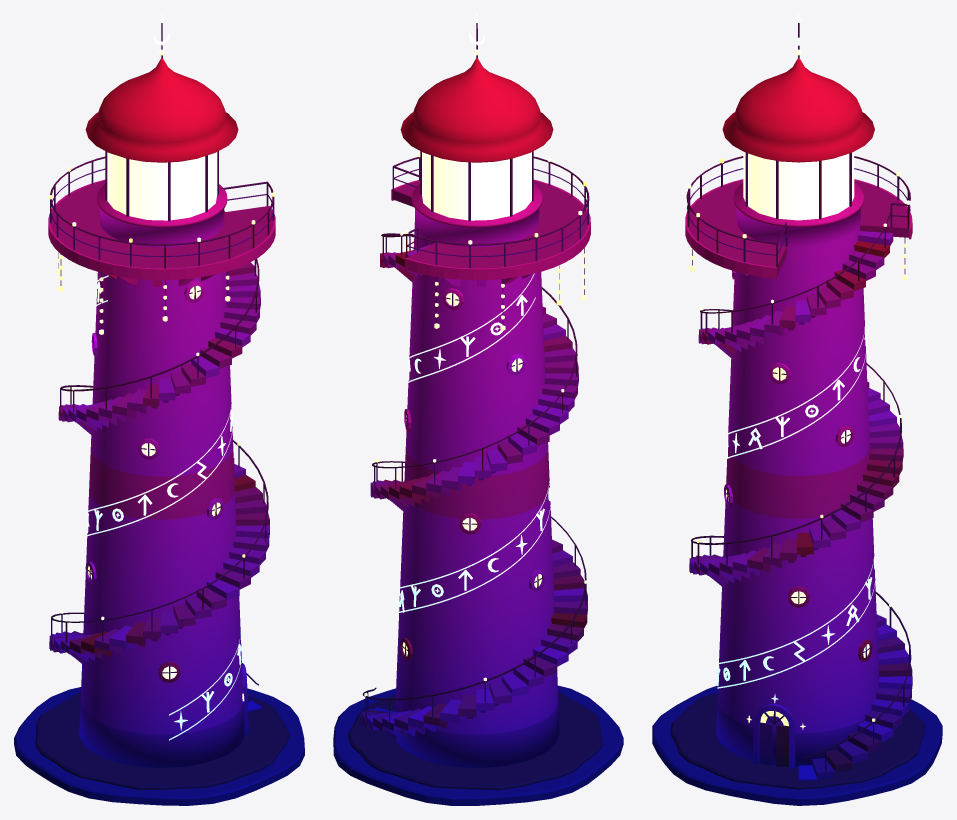
The model's file is lighthouse.glb.
3 views of the same model, side by side, from view 1: azimuth 30°, elevation 25°; view 2: azimuth 150°, elevation 25°; view 3: azimuth 270°, elevation 25° (orthographic).
Parts seen in each view (by area): view 1: DreamLighthouse; view 2: DreamLighthouse; view 3: DreamLighthouse.
Part boxes in pixels (left/top/right/bottom): DreamLighthouse: left=14, top=14, right=304, bottom=805; DreamLighthouse: left=333, top=14, right=623, bottom=805; DreamLighthouse: left=652, top=14, right=942, bottom=805.
Bounding box in the file's own units: 11.23 × 31.12 × 11.24.
